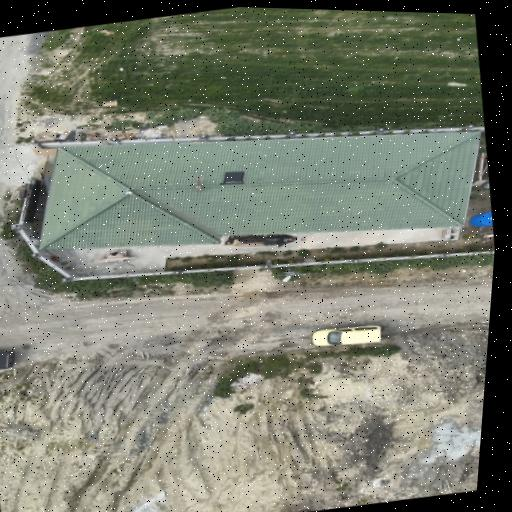car: (312, 326, 381, 346), (0, 351, 14, 370)
